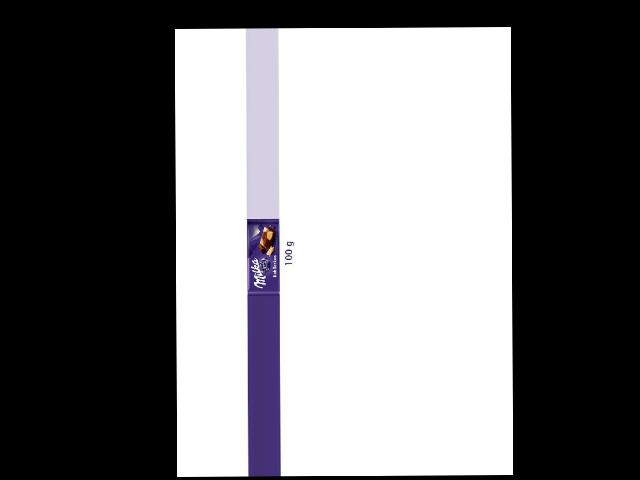chocolate: (246, 218, 281, 296)
